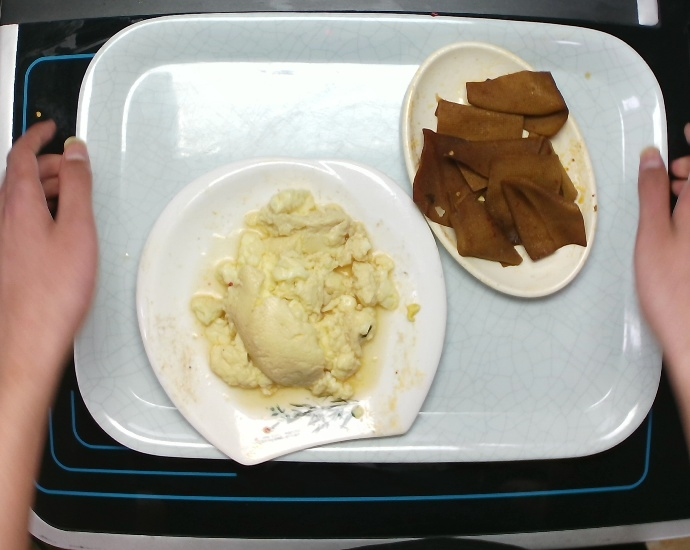JYsf-Mian_Pan: (132, 153, 449, 467)
JYsf-Tuo_Yuan_Wan: (398, 38, 600, 300)
